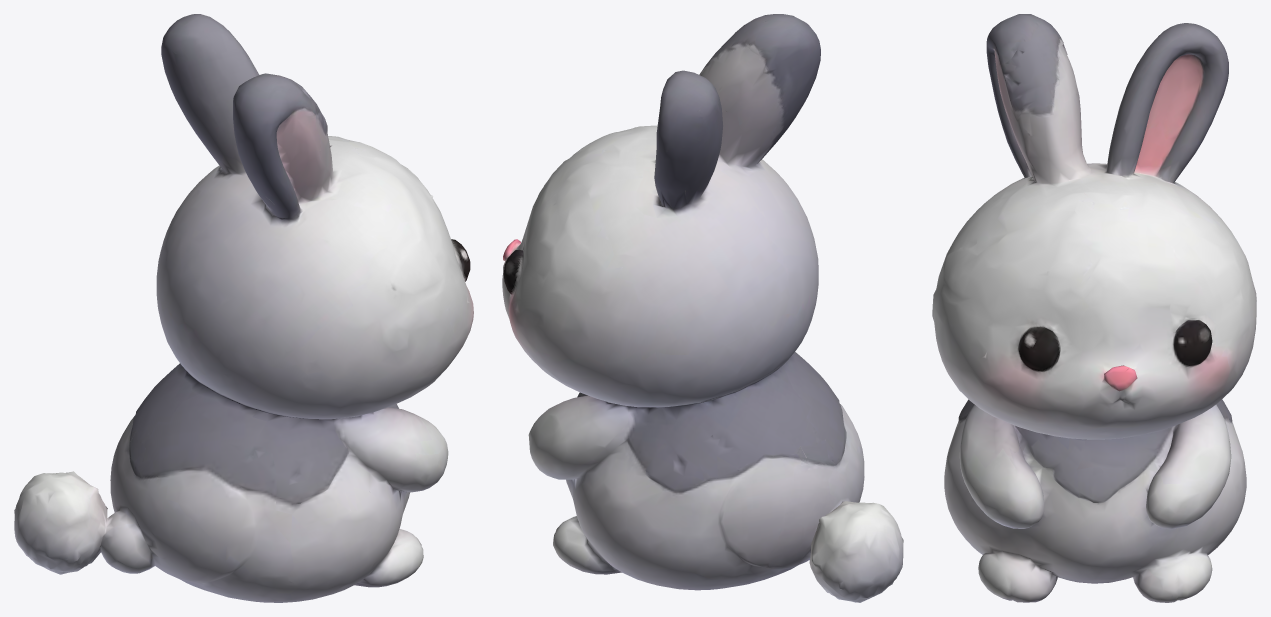
Rendered from pet-bunny.glb.
The picture shows the model from 3 angles, left to right: view 1: azimuth 30°, elevation 25°; view 2: azimuth 150°, elevation 25°; view 3: azimuth 270°, elevation 25°; orthographic projection.
Visible parts, largest first — view 1: tripo_node_45a01163-c7f0-4fe2-8573-206ebe499ae8; view 2: tripo_node_45a01163-c7f0-4fe2-8573-206ebe499ae8; view 3: tripo_node_45a01163-c7f0-4fe2-8573-206ebe499ae8.
Boxes of the visible parts, <box> form: tripo_node_45a01163-c7f0-4fe2-8573-206ebe499ae8: <box>14,14,473,602</box>; tripo_node_45a01163-c7f0-4fe2-8573-206ebe499ae8: <box>502,14,903,602</box>; tripo_node_45a01163-c7f0-4fe2-8573-206ebe499ae8: <box>932,14,1256,602</box>.
Size of the model in its own units: 0.8278 by 1 by 0.5687.
Materials: 1 (1 with a texture image).
